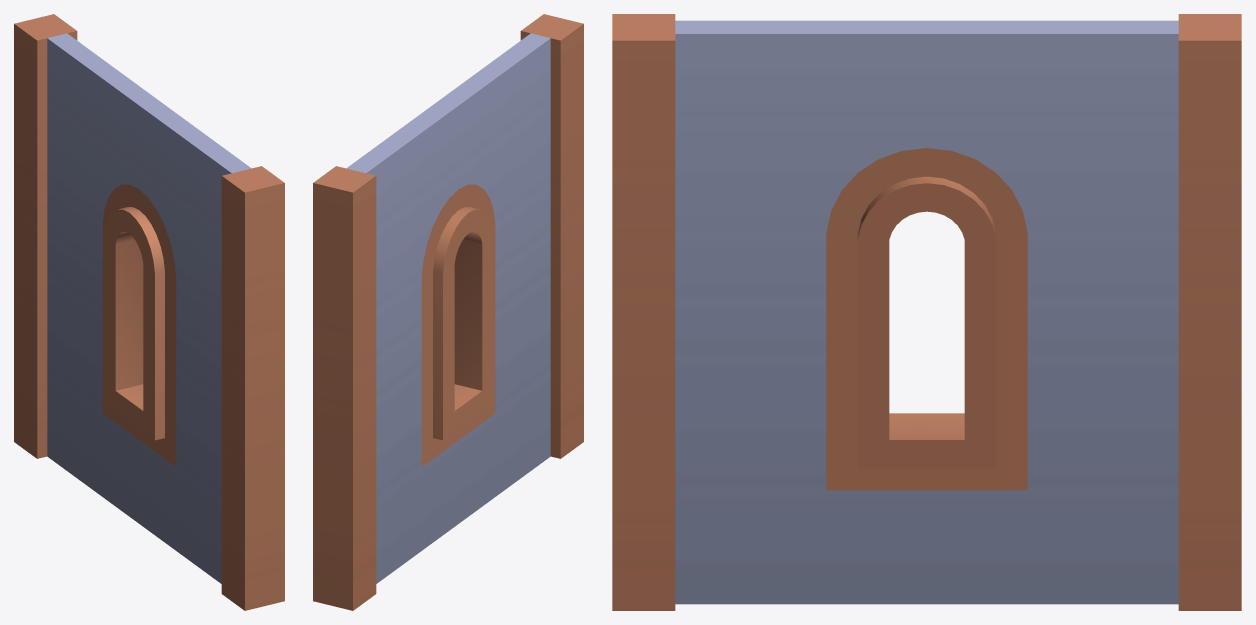
The model's file is wall-window-round.fbx.
The picture shows the model from 3 angles, left to right: view 1: azimuth 30°, elevation 25°; view 2: azimuth 150°, elevation 25°; view 3: azimuth 270°, elevation 25°; orthographic projection. The views are drawn at different scales.
Visible parts, largest first — view 1: wall-window-round; view 2: wall-window-round; view 3: wall-window-round.
Boxes of the visible parts, box(x1,y1,x2,y2) form: wall-window-round: box(14, 14, 284, 610); wall-window-round: box(313, 14, 583, 610); wall-window-round: box(612, 14, 1241, 610).
Size of the model in its own units: 10 by 100 by 100.
1 material, 1 textured.
